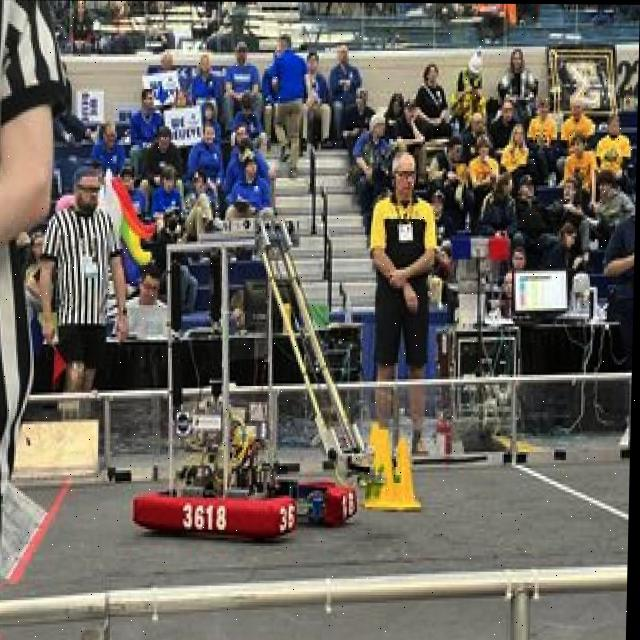robot: (128, 186, 381, 536)
